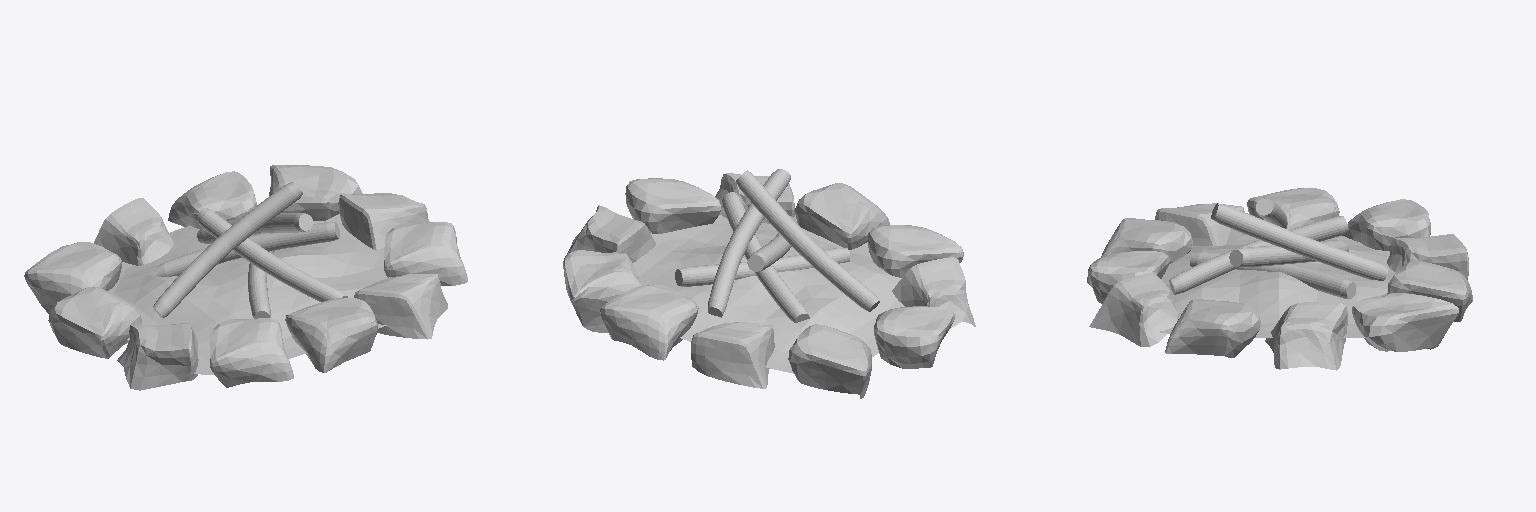
The model's file is fire_place.obj.
3 renders of one model, left to right at view 1: azimuth 30°, elevation 25°; view 2: azimuth 150°, elevation 25°; view 3: azimuth 270°, elevation 25°, orthographic.
Visible parts, largest first — view 1: Ohniste_Circle.004; view 2: Ohniste_Circle.004; view 3: Ohniste_Circle.004.
Part boxes in pixels (x1,y1,x2,y2): Ohniste_Circle.004: (24,165,467,390); Ohniste_Circle.004: (563,169,975,398); Ohniste_Circle.004: (1087,188,1472,370).
Size of the model in its own units: 245 by 90.22 by 219.